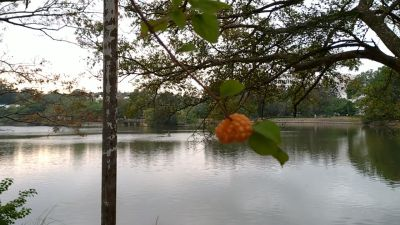eggs: (216, 112, 254, 144)
